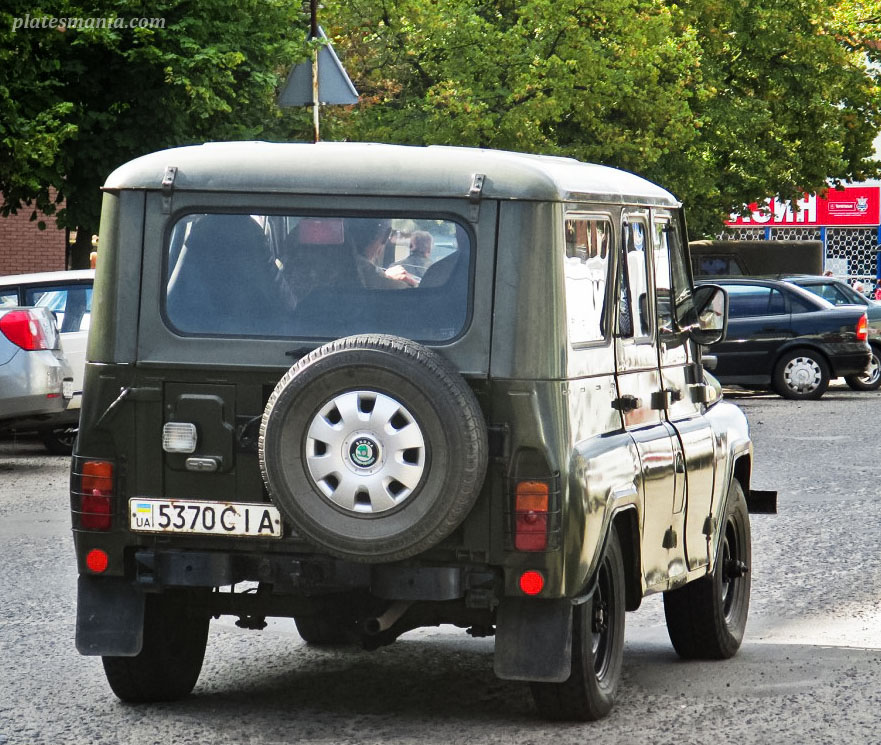car: (68, 141, 781, 720)
plate: (130, 497, 284, 535)
